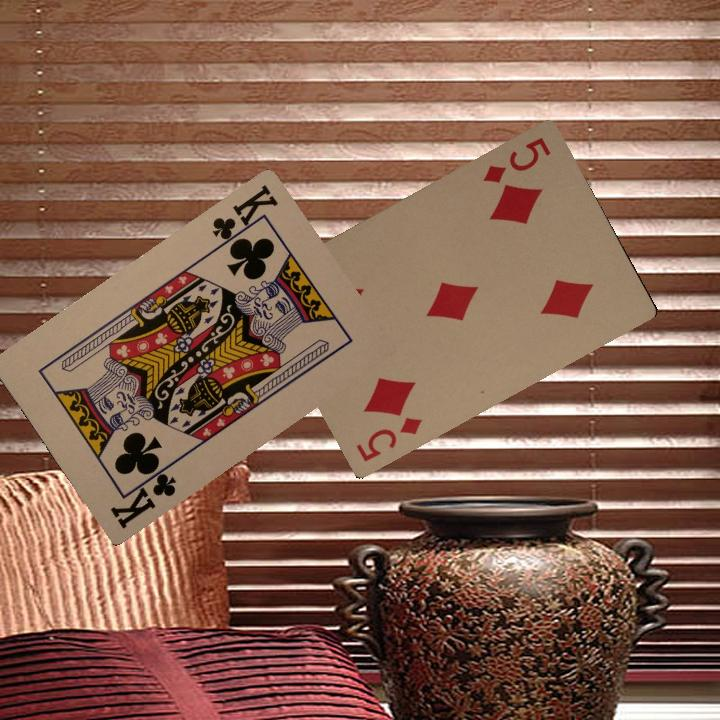5d: (479, 132, 553, 186), (352, 413, 425, 464)
Kc: (208, 180, 283, 252), (106, 460, 179, 531)
